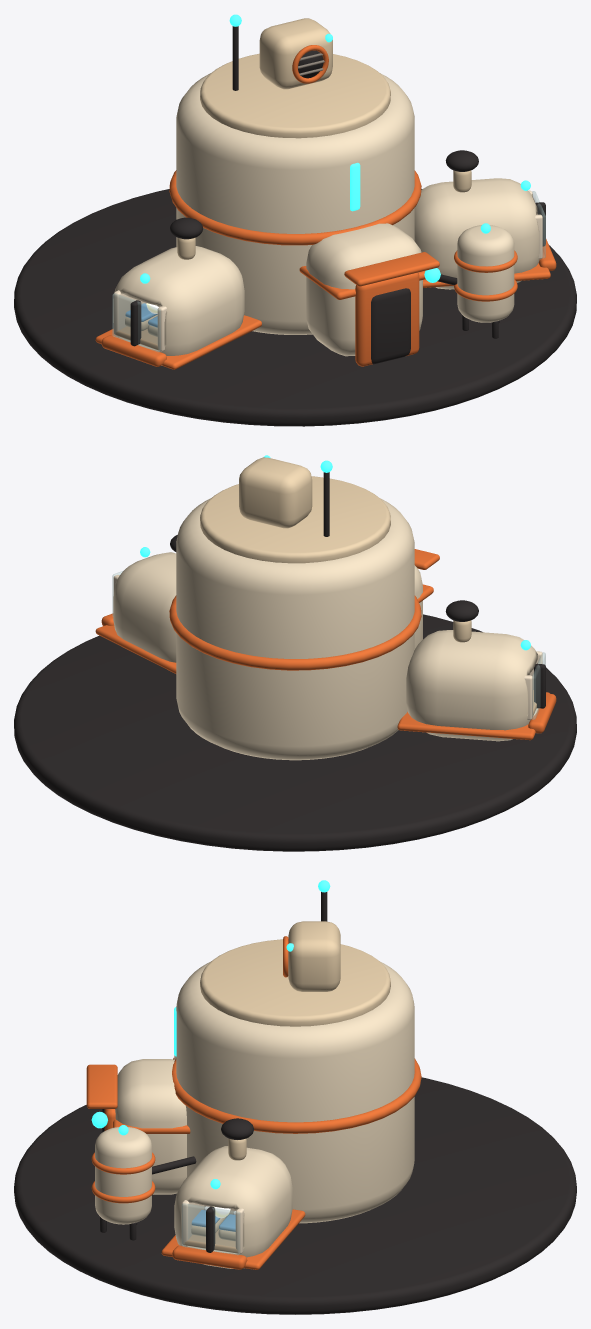
The model's file is home-a-1.glb.
3 views of the same model, one above another, from view 1: azimuth 30°, elevation 25°; view 2: azimuth 150°, elevation 25°; view 3: azimuth 270°, elevation 25° (orthographic).
Parts seen in each view (by area): view 1: Cylinder, Cylinder.001, Cylinder.004, Cube.021, Cube.006, Cube, Cylinder.010, Cube.036, Torus, Cube.003, Cube.002, Cube.033 (+9 smaller); view 2: Cylinder, Cylinder.001, Cube.021, Cylinder.004, Cube.006, Cube.036, Torus, Cube.022, Cube.007, Sphere.006, Cube.034, Cube.035 (+1 smaller); view 3: Cylinder, Cylinder.001, Cylinder.004, Cube.006, Cube, Cylinder.010, Cube.036, Torus, Cube.018, Cube.004, Cube.019, Cube.007 (+1 smaller).
Boxes of the visible parts, x1,y1,x2,y2 form: Cylinder: (14, 189, 576, 426); Cylinder.001: (176, 73, 414, 334); Cylinder.004: (200, 53, 390, 138); Cube.021: (113, 246, 244, 365); Cube.006: (414, 178, 539, 289); Cube: (306, 223, 422, 356); Cylinder.010: (457, 225, 514, 322); Cube.036: (259, 18, 332, 89); Torus: (169, 170, 421, 245); Cube.003: (371, 288, 410, 364); Cube.002: (355, 272, 419, 366); Cube.033: (112, 293, 160, 352); Cylinder: (14, 614, 576, 851); Cylinder.001: (176, 498, 414, 760); Cube.021: (406, 630, 537, 741); Cylinder.004: (200, 476, 390, 563); Cube.006: (113, 552, 176, 662); Cube.036: (239, 457, 312, 528); Torus: (169, 595, 421, 670); Cube.022: (397, 692, 549, 740); Cube.007: (95, 625, 176, 673); Sphere.006: (445, 600, 478, 621); Cube.034: (528, 693, 556, 733); Cube.035: (534, 663, 545, 708); Cylinder: (14, 1077, 576, 1314); Cylinder.001: (176, 961, 414, 1223); Cylinder.004: (200, 939, 390, 1026); Cube.006: (174, 1146, 292, 1268); Cube: (115, 1059, 186, 1194); Cylinder.010: (95, 1127, 151, 1224); Cube.036: (288, 921, 340, 991); Torus: (172, 1058, 421, 1133); Cube.018: (181, 1203, 239, 1255); Cube.004: (86, 1064, 117, 1108); Cube.019: (172, 1245, 247, 1269); Cube.007: (161, 1209, 305, 1269).
Bounding box in the file's own units: 2.36 × 1.37 × 2.36.
